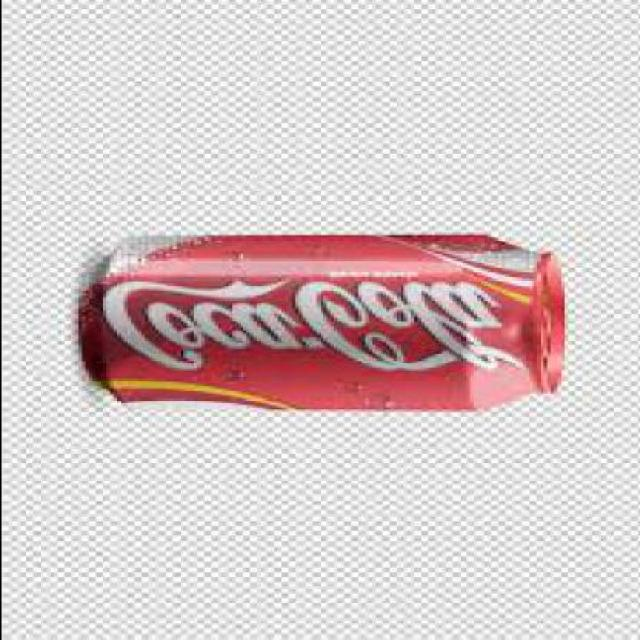metal: (85, 238, 564, 416)
